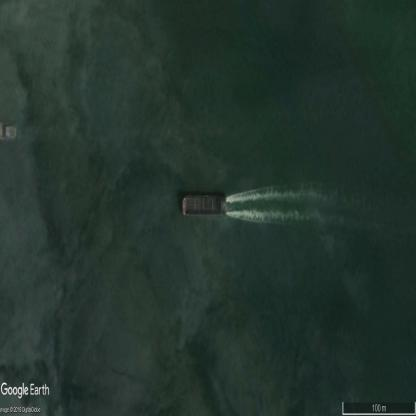ship: (182, 193, 226, 217)
